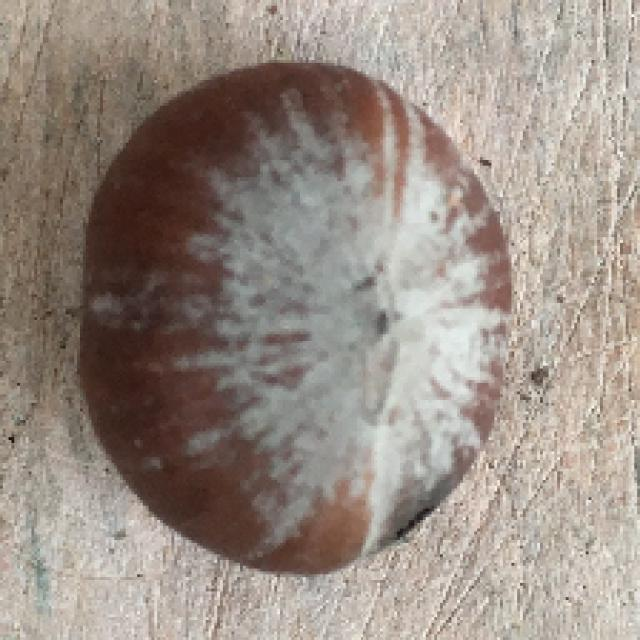damagedHazelnut: (77, 58, 519, 576)
